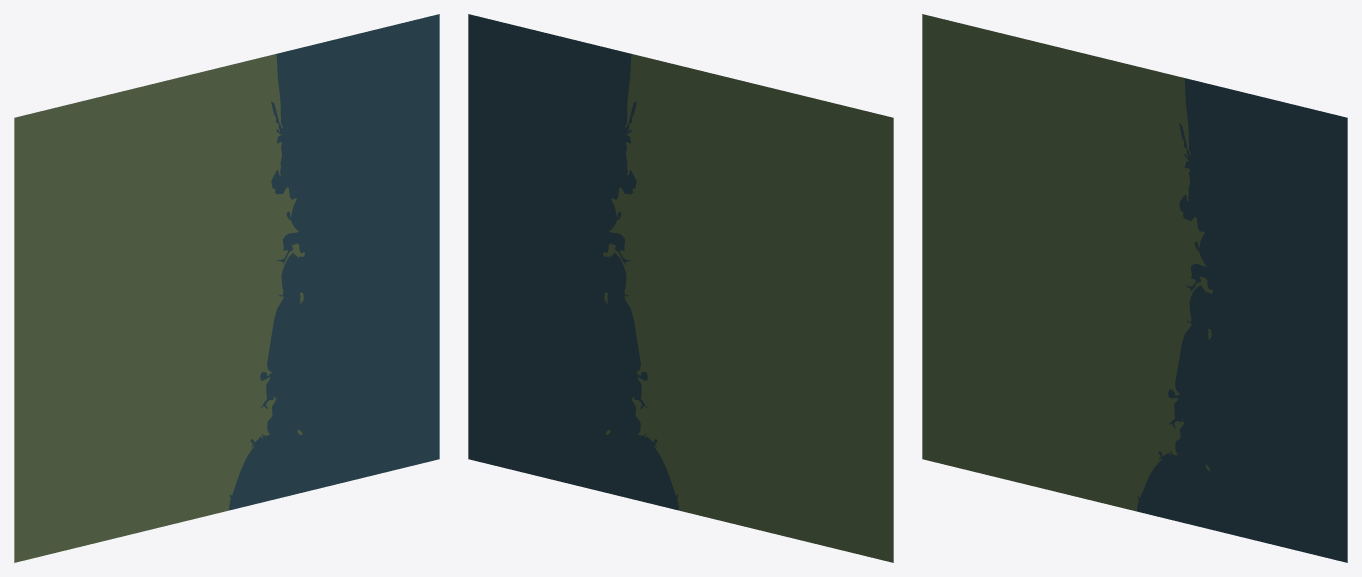
File: shape_106_Coast_06.glb
3 views of the same model, side by side, from view 1: azimuth 30°, elevation 25°; view 2: azimuth 150°, elevation 25°; view 3: azimuth 330°, elevation 25° (orthographic).
Bounding box in the file's own units: 4096 × 4096 × 0.
